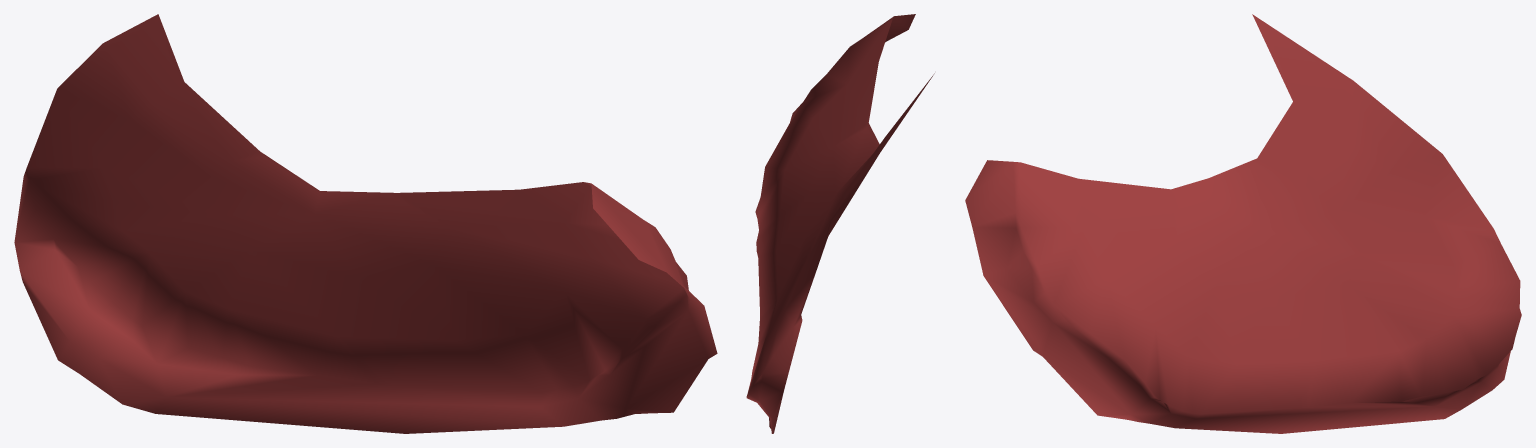
The model's file is obturator-externus-or.glb.
3 renders of one model, left to right at view 1: azimuth 30°, elevation 25°; view 2: azimuth 150°, elevation 25°; view 3: azimuth 270°, elevation 25°, orthographic. The views are drawn at different scales.
Parts seen in each view (by area): view 1: Obturator externus.or; view 2: Obturator externus.or; view 3: Obturator externus.or.
Boxes of the visible parts, x1=… form: Obturator externus.or: x1=14, y1=14, x2=717, y2=433; Obturator externus.or: x1=746, y1=14, x2=934, y2=433; Obturator externus.or: x1=965, y1=14, x2=1521, y2=433.
Size of the model in its own units: 0.0281 by 0.0365 by 0.0513.
